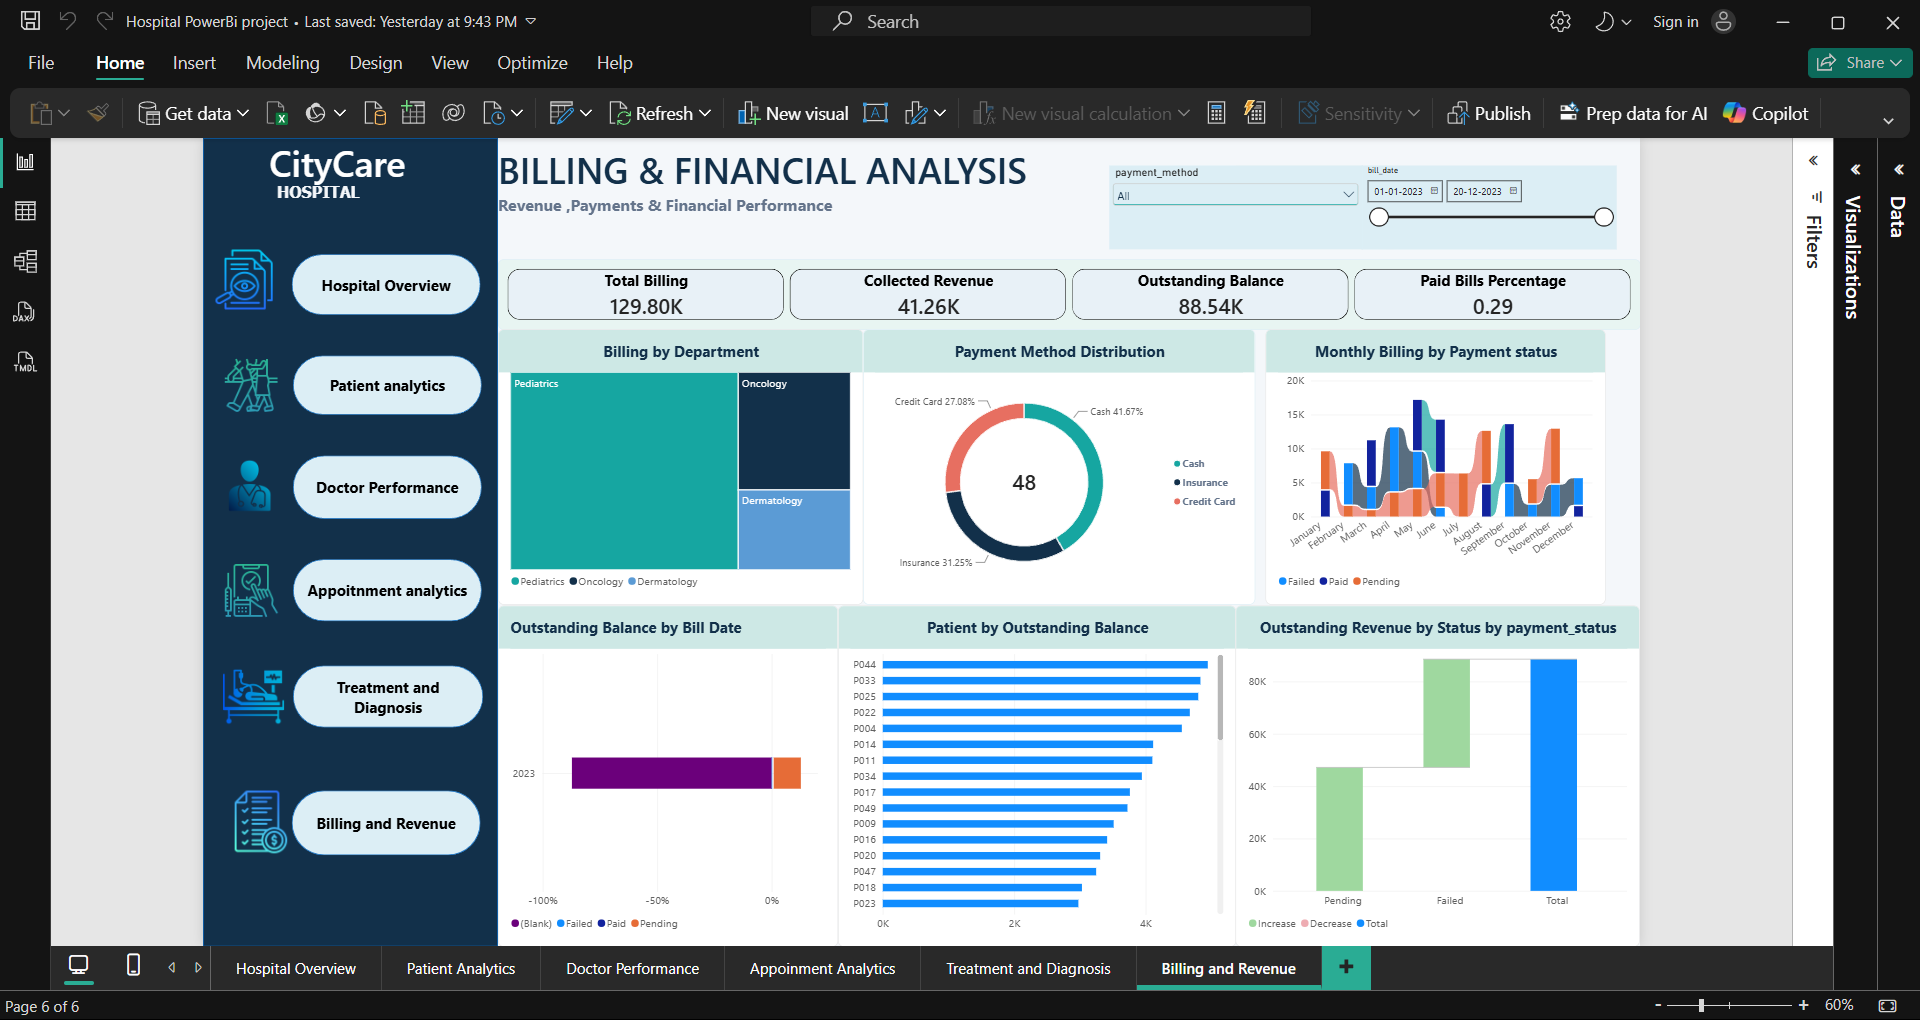

The page's visual inventory and layout, read from the dashboard file:
{"tool":"powerbi","page":{"name":"Billing and Revenue","canvas":[1920,1080],"ordinal":5},"visuals":[{"type":"shape","box":[0,0,394,1080],"z":0},{"type":"textbox","box":[14.3,0,328.6,91.8],"z":1000},{"type":"textbox","box":[393.9,9.2,802.5,119.6],"z":2000},{"type":"textbox","box":[79.6,59.2,263.3,32.7],"z":3000},{"type":"slicer","title":"Appoinment Date","fields":{"Values":["billing.bill_date"]},"box":[1548,36,340,112],"z":4000},{"type":"slicer","fields":{"Values":["billing.payment_method"]},"box":[1210,36,338,112],"z":5000},{"type":"shape","box":[117.8,154.6,252.1,81],"z":6000},{"type":"shape","box":[119.6,290.8,252.1,79.1],"z":7000},{"type":"shape","box":[119.6,423.3,252.1,84.7],"z":8000},{"type":"shape","box":[119.6,563.2,252.1,82.8],"z":9000},{"type":"shape","box":[119.6,704.9,254,82.8],"z":10000},{"type":"shape","box":[117.8,872.4,252.1,86.5],"z":11000},{"type":"image","box":[11,149.1,86.5,81],"z":12000},{"type":"image","box":[26.5,289.8,75.5,79.6],"z":13000},{"type":"image","box":[26.5,422.4,71.4,83.7],"z":14000},{"type":"image","box":[26.5,563.3,75.5,83.7],"z":15000},{"type":"image","box":[26.5,704.1,81.6,83.7],"z":16000},{"type":"image","box":[32.7,871.4,87.8,83.7],"z":17000},{"type":"cardVisual","fields":{"Data":["billing.Total Billing","billing.Collected Revenue","billing.Outstanding Balance","billing.Paid Bills Percentage"]},"box":[394,162,1526,94],"z":18000},{"type":"treemap","title":"Billing by Department","fields":{"Group":["doctors.specialization"],"Values":["Sum(billing.amount)"]},"box":[394,256,488,368],"z":19000},{"type":"donutChart","title":"Payment Method Distribution","fields":{"Category":["billing.payment_method"],"Y":["CountNonNull(billing.bill_id)"]},"box":[882,256,524,368],"z":19001},{"type":"ribbonChart","title":"Monthly Billing by Payment status","fields":{"Category":["billing.bill_date.Variation.Date Hierarchy.Year","billing.bill_date.Variation.Date Hierarchy.Month"],"Series":["billing.payment_status"],"Y":["Sum(billing.amount)"]},"box":[1420,256,454,368],"z":19002},{"type":"hundredPercentStackedBarChart","title":"Outstanding Balance by Bill Date","fields":{"Category":["billing.bill_date.Variation.Date Hierarchy.Year","billing.bill_date.Variation.Date Hierarchy.Month"],"Series":["billing.payment_status"],"Y":["billing.Outstanding Balance"]},"box":[394,624,454,456],"z":19003},{"type":"clusteredBarChart","title":"Patient by Outstanding Balance","fields":{"Category":["patients.patient_id"],"Y":["billing.Outstanding Balance"]},"box":[848,624,532,456],"z":19004},{"type":"waterfallChart","fields":{"Category":["billing.payment_status"],"Y":["Doctor Performance Metrices.Outstanding Revenue by Status"]},"box":[1380,624,540,456],"z":19005}]}

Visuals, with their boxes on the page's 1920x1080 design canvas (x1, y1, x2, y2). These are canvas units, not pixel positions in the 1920x1020 screenshot, which may show the page scaled, cropped or inside an application window:
shape: (0,0,394,1080)
textbox: (14,0,343,92)
textbox: (394,9,1196,129)
textbox: (80,59,343,92)
"Appoinment Date" slicer: (1548,36,1888,148)
slicer - billing.payment_method: (1210,36,1548,148)
shape: (118,155,370,236)
shape: (120,291,372,370)
shape: (120,423,372,508)
shape: (120,563,372,646)
shape: (120,705,374,788)
shape: (118,872,370,959)
image: (11,149,98,230)
image: (26,290,102,369)
image: (26,422,98,506)
image: (26,563,102,647)
image: (26,704,108,788)
image: (33,871,120,955)
cardVisual - billing.Total Billing x billing.Collected Revenue: (394,162,1920,256)
"Billing by Department" treemap: (394,256,882,624)
"Payment Method Distribution" donutChart: (882,256,1406,624)
"Monthly Billing by Payment status" ribbonChart: (1420,256,1874,624)
"Outstanding Balance by Bill Date" hundredPercentStackedBarChart: (394,624,848,1080)
"Patient by Outstanding Balance" clusteredBarChart: (848,624,1380,1080)
waterfallChart - billing.payment_status x Doctor Performance Metrices.Outstanding Revenue by Status: (1380,624,1920,1080)
